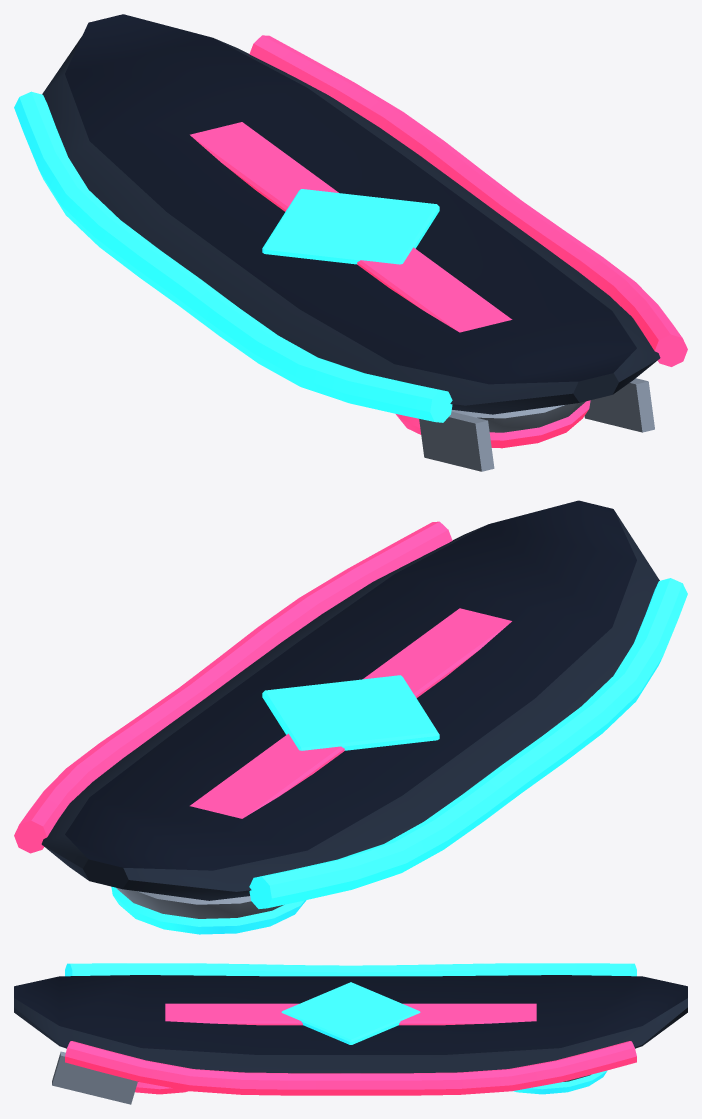
Rendered from hoverboard.glb.
3 renders of one model, top to bottom at view 1: azimuth 30°, elevation 25°; view 2: azimuth 150°, elevation 25°; view 3: azimuth 270°, elevation 25°, orthographic. The views are drawn at different scales.
Visible parts, largest first — view 1: Hoverboard; view 2: Hoverboard; view 3: Hoverboard.
Part boxes in pixels (left/top/right/bottom): Hoverboard: left=14, top=14, right=687, bottom=471; Hoverboard: left=14, top=500, right=687, bottom=934; Hoverboard: left=14, top=963, right=687, bottom=1104.
Bounding box in the file's own units: 0.6164 × 0.2025 × 1.48.
